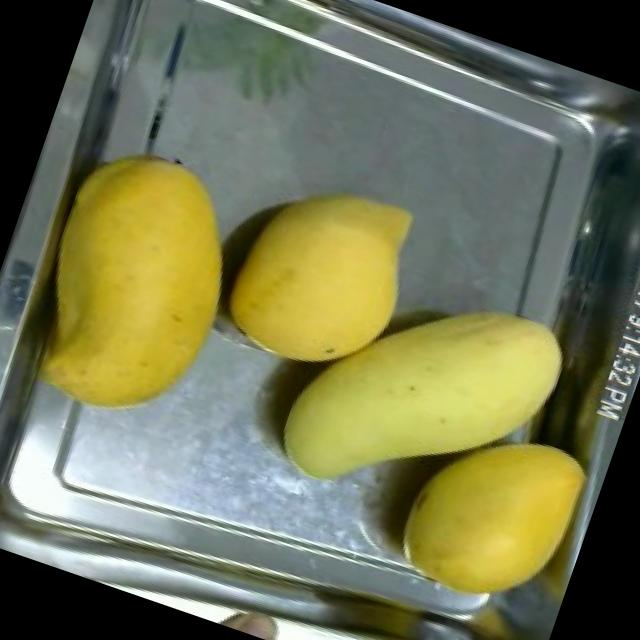fruit: (248, 238, 586, 558), (0, 117, 275, 454), (359, 386, 613, 640), (196, 144, 441, 406)
